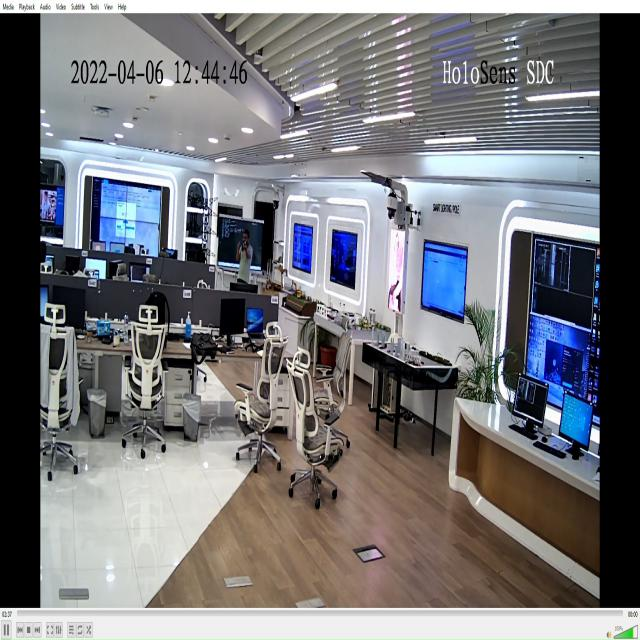long weapon: (239, 234, 251, 260)
